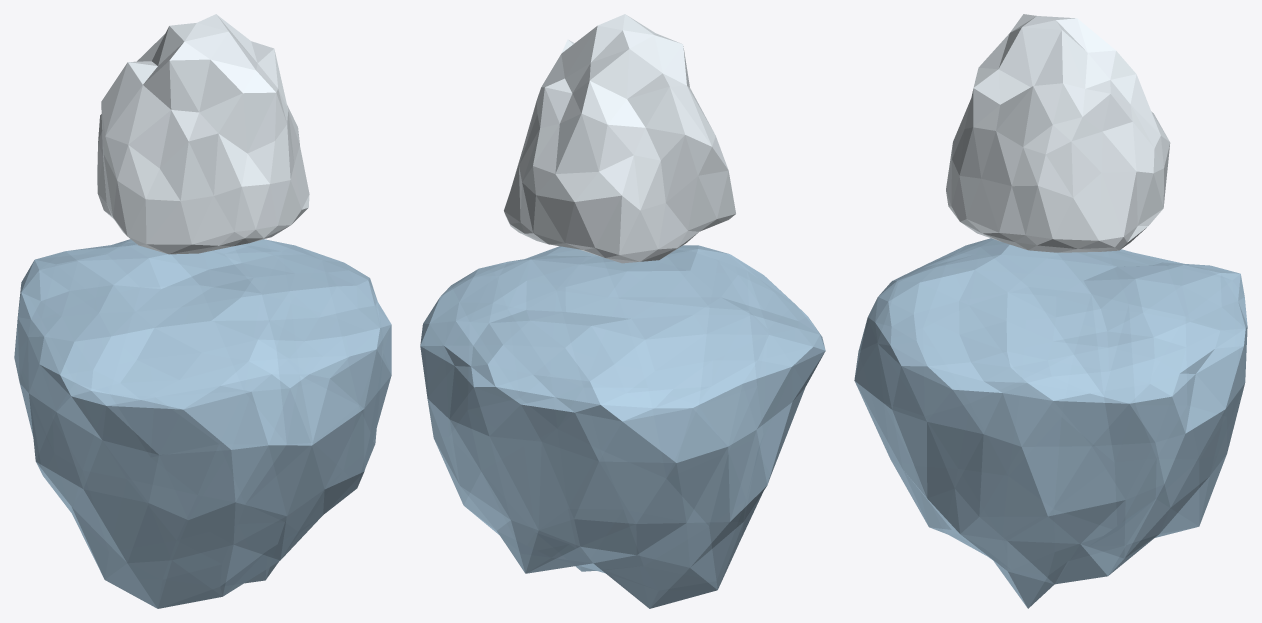
File: iceberg.glb
The picture shows the model from 3 angles, left to right: view 1: azimuth 30°, elevation 25°; view 2: azimuth 150°, elevation 25°; view 3: azimuth 270°, elevation 25°; orthographic projection.
Visible parts, largest first — view 1: Iceberg; view 2: Iceberg; view 3: Iceberg.
Part boxes in pixels (left/top/right/bottom): Iceberg: left=14, top=14, right=391, bottom=608; Iceberg: left=420, top=14, right=825, bottom=608; Iceberg: left=854, top=14, right=1247, bottom=608.
Bounding box in the file's own units: 7.1 × 11.37 × 7.19.
